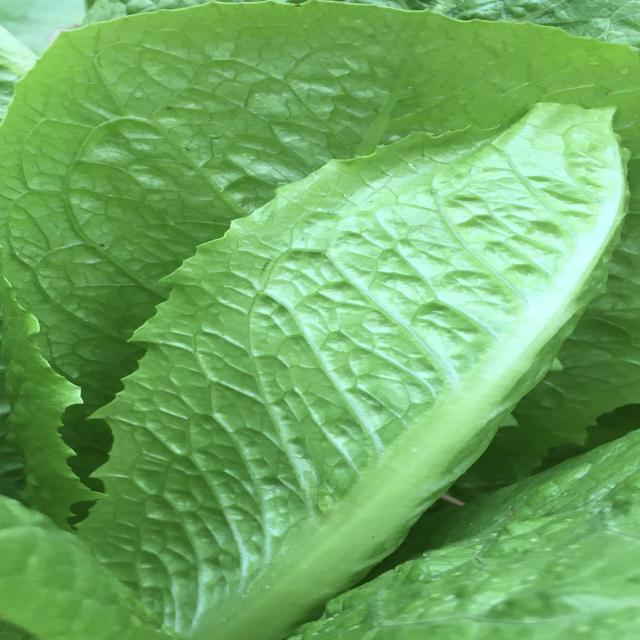Healthy Lettuce: (5, 3, 634, 636)
